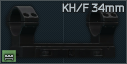IEA Mil-Optics 34mm one piece magmount: (0, 0, 127, 64)
